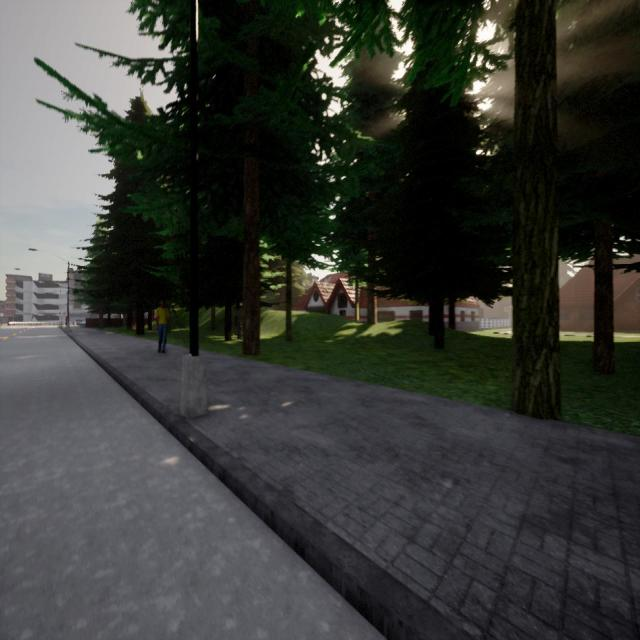Pedestrian: (155, 300, 169, 352)
